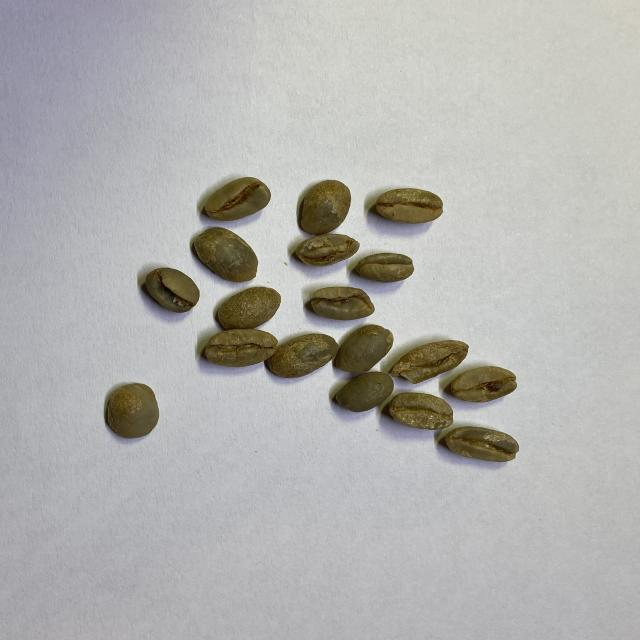bad: (392, 341, 470, 383), (449, 366, 519, 404), (304, 287, 376, 321), (294, 235, 361, 268)
good: (193, 227, 259, 284), (264, 333, 338, 379), (105, 381, 160, 440), (197, 177, 271, 220), (440, 424, 520, 463), (298, 179, 351, 235), (213, 286, 280, 329), (202, 330, 276, 368), (389, 391, 454, 434), (335, 325, 394, 371), (374, 188, 444, 225), (144, 267, 200, 312), (334, 372, 394, 412), (352, 251, 416, 283)
